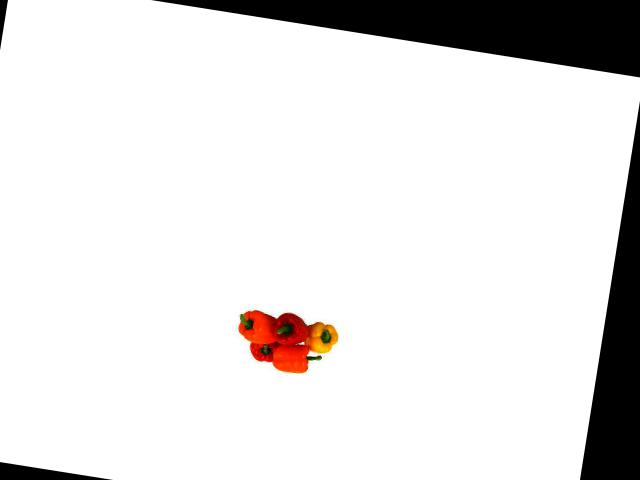bell_pepper: (227, 303, 282, 350)
